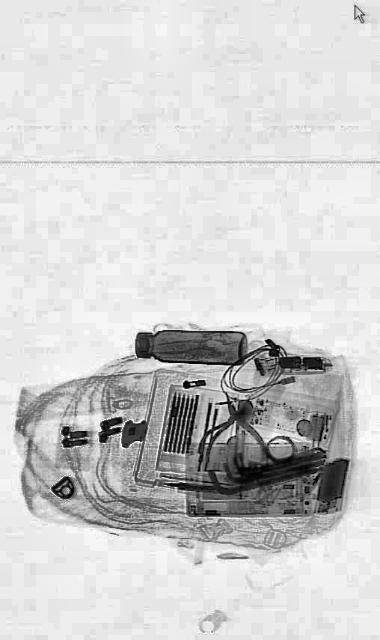Pliers: (203, 389, 272, 476)
